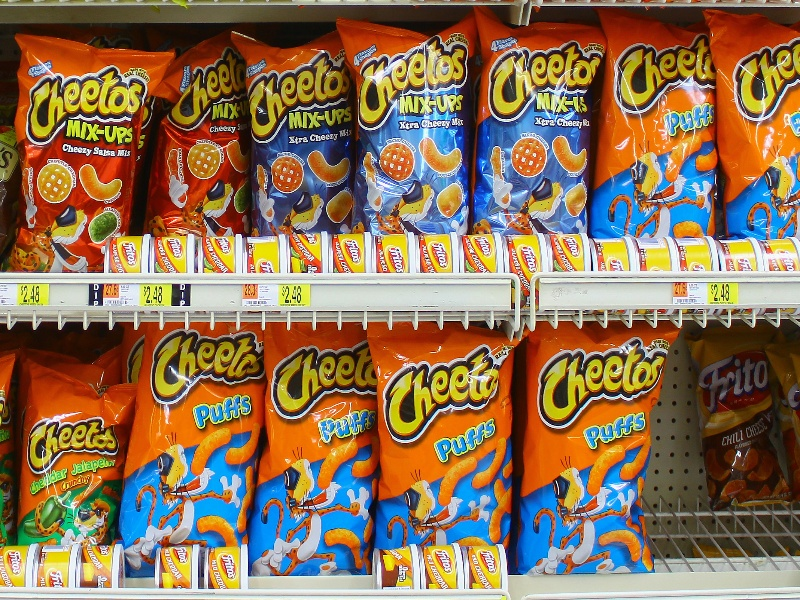chips: (517, 321, 679, 577), (367, 321, 508, 547), (338, 12, 475, 236), (11, 32, 137, 274), (122, 322, 254, 547), (262, 316, 374, 573), (475, 5, 593, 237), (599, 12, 716, 235), (236, 32, 359, 232), (709, 8, 797, 234)
